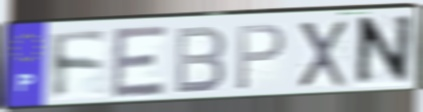B: (173, 24, 228, 97)
E: (111, 24, 170, 102)
F: (48, 30, 110, 103)
N: (352, 12, 415, 91)
P: (234, 22, 288, 93)
X: (296, 18, 348, 90)
